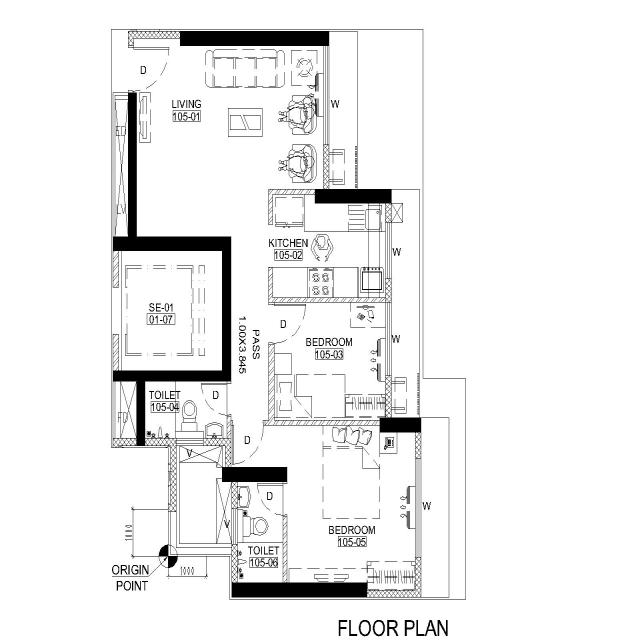Column: (178, 29, 332, 47), (230, 582, 370, 598), (111, 234, 233, 252), (111, 368, 233, 384), (127, 91, 139, 239), (221, 246, 233, 374), (314, 188, 392, 205), (222, 466, 288, 484), (135, 380, 148, 447), (379, 416, 422, 434)
Door: (127, 44, 137, 94), (267, 300, 275, 346), (282, 478, 288, 518), (231, 421, 267, 425)
Ventilator: (230, 507, 238, 547), (174, 437, 205, 447)
Window: (322, 43, 330, 147), (414, 456, 422, 559), (385, 301, 392, 377), (384, 220, 392, 280)
